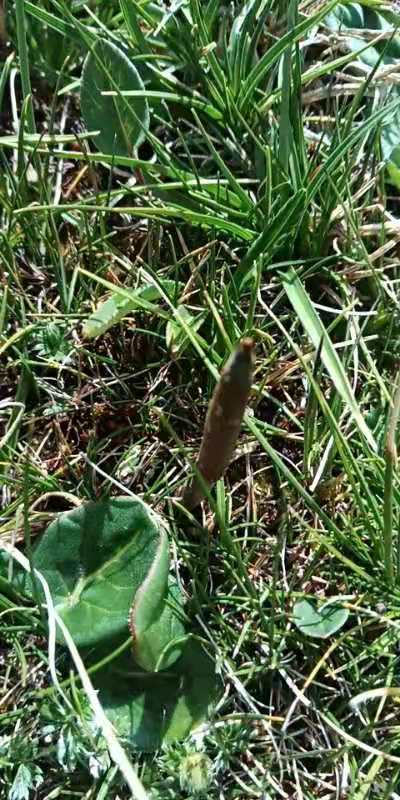cpf: (183, 335, 259, 508)
